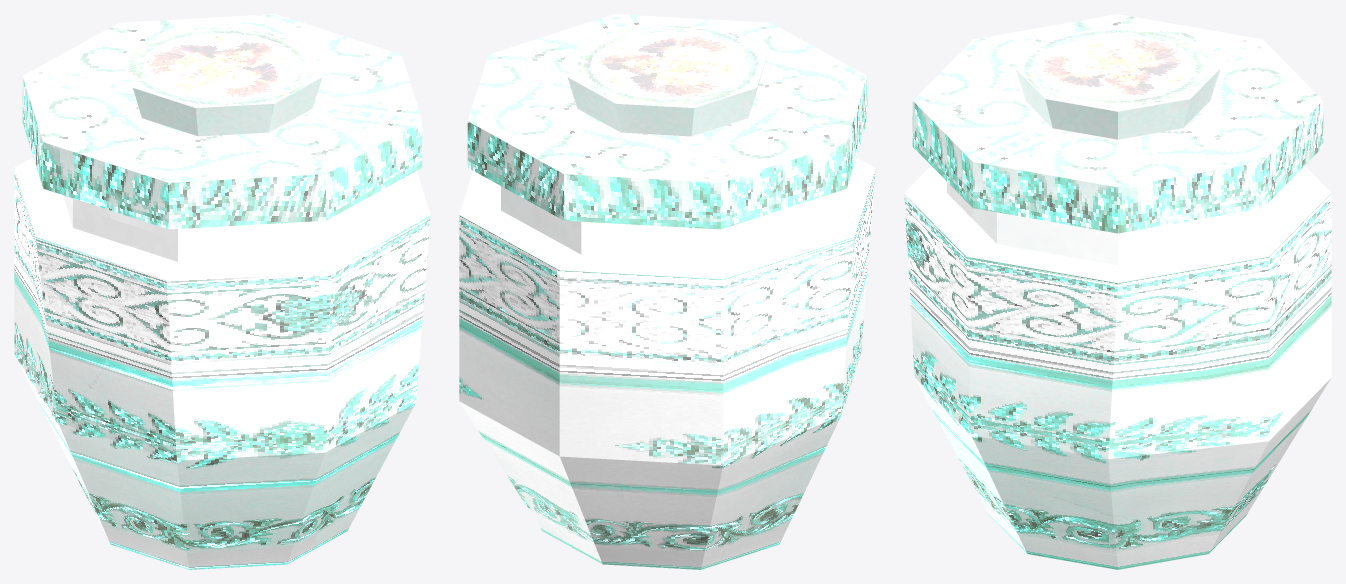
The model's file is ajax_urn.glb.
3 views of the same model, side by side, from view 1: azimuth 30°, elevation 25°; view 2: azimuth 150°, elevation 25°; view 3: azimuth 270°, elevation 25° (orthographic).
Visible parts, largest first — view 1: ajax_urn; view 2: ajax_urn; view 3: ajax_urn.
Part boxes in pixels (box(x1,y1,x2,y2)): ajax_urn: box(14, 14, 430, 569); ajax_urn: box(459, 14, 875, 569); ajax_urn: box(904, 14, 1331, 569).
Bounding box in the file's own units: 0.84 × 0.97 × 0.84.
